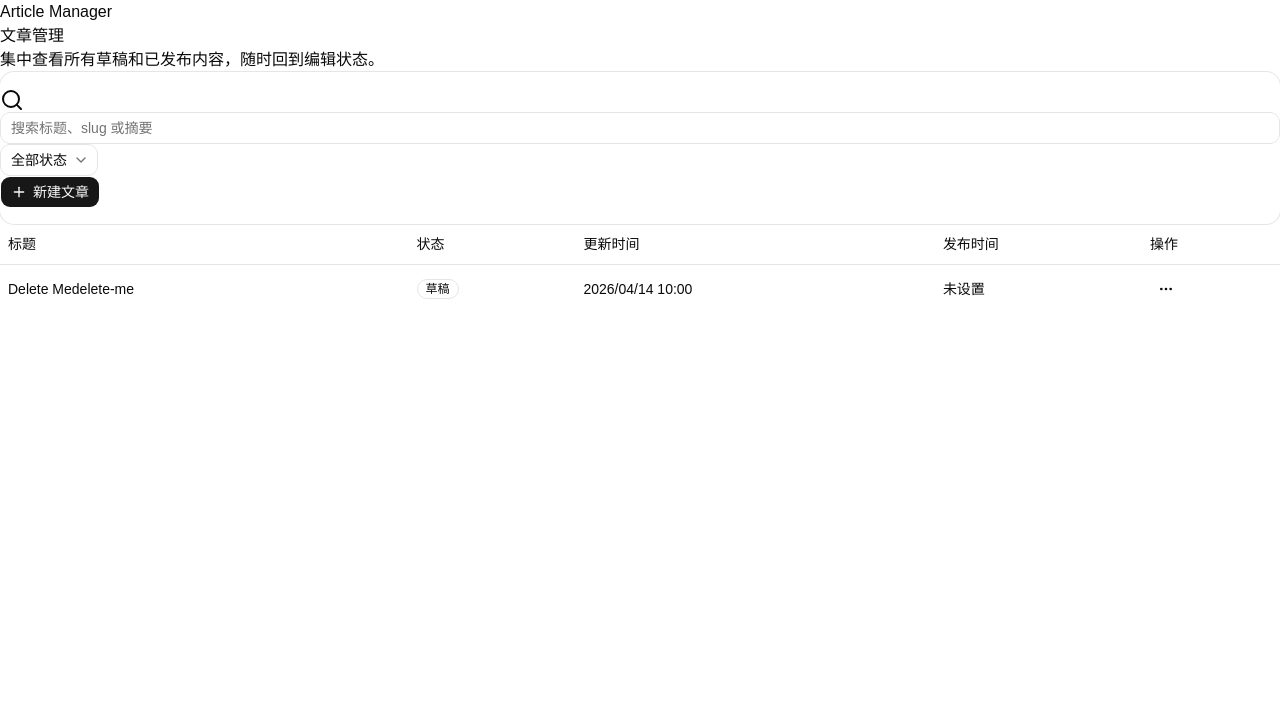
ArticleListPage › deletes an article after confirmation
The width and height of the screenshot is (1280, 720).
Expected: the button "Delete Me" is shown, [8,278,72,298]
Click the button named "文章 Delete Me 的更多操作": (1166, 288) [1150,272,1182,304]
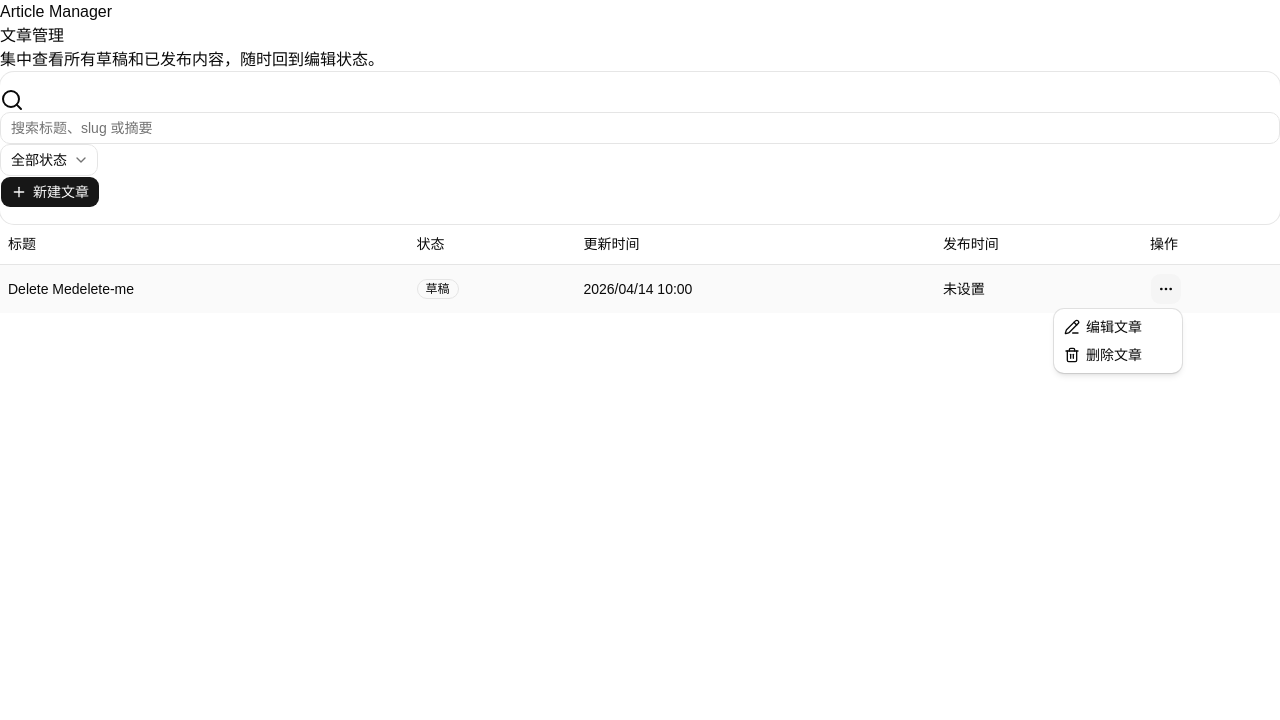
Click the menu item "删除文章": (1103, 355) [1064,347,1142,363]
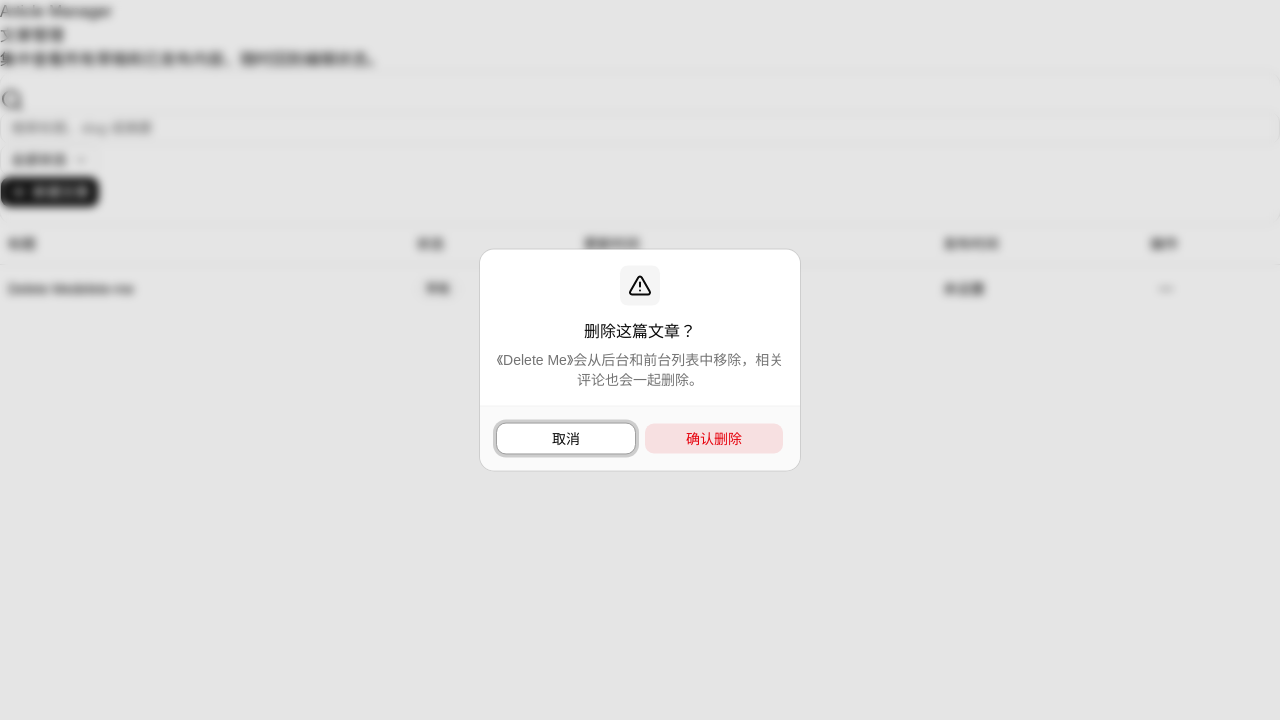
Click the button "确认删除": (714, 438) [644,422,784,454]
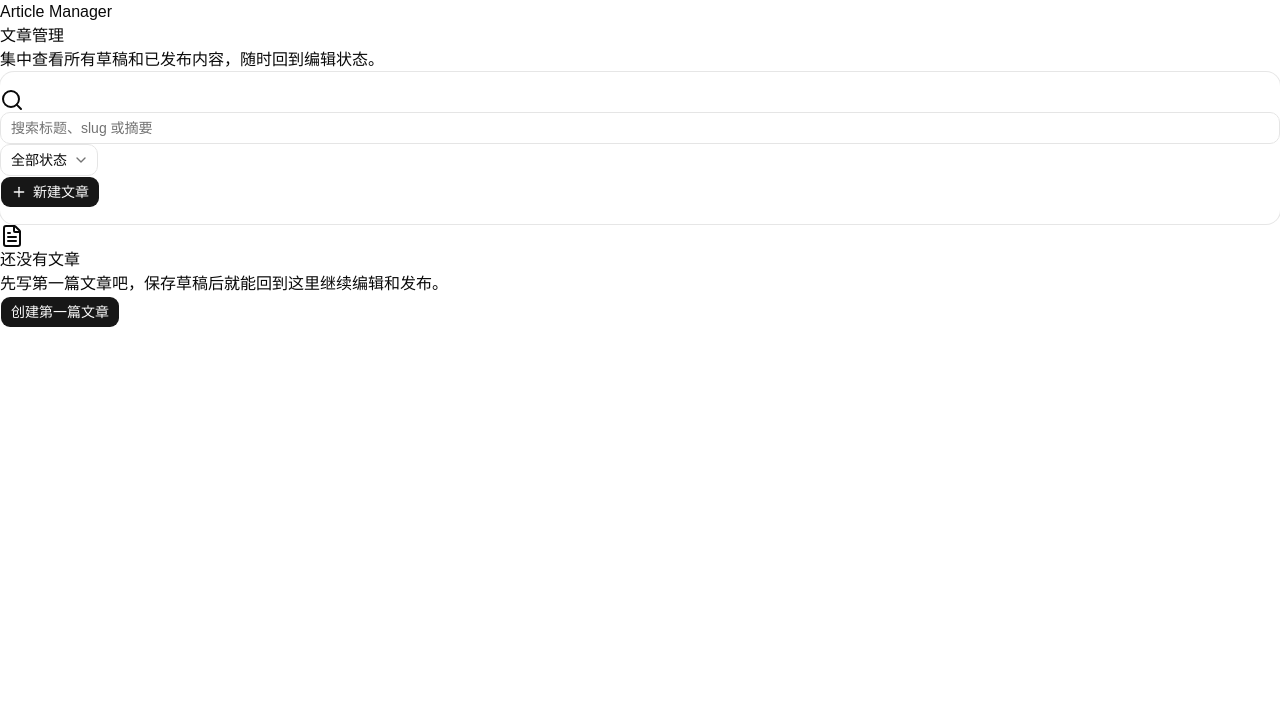
Expected: the button "Delete Me" is gone
